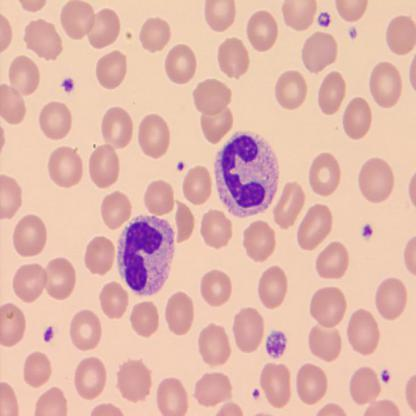Segmented neutrophil: (213, 127, 281, 219), (115, 213, 176, 300)
